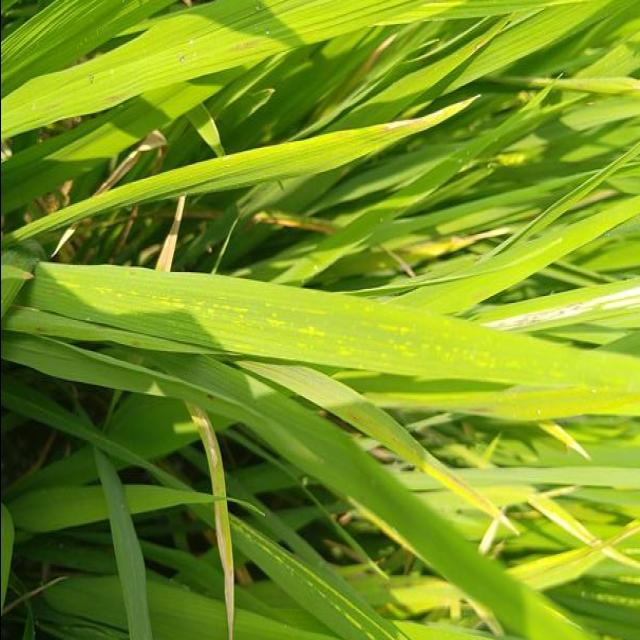Leaf Blight: (184, 400, 232, 640), (371, 97, 476, 131), (155, 196, 184, 271)
Leaf Streak: (37, 265, 640, 392)
